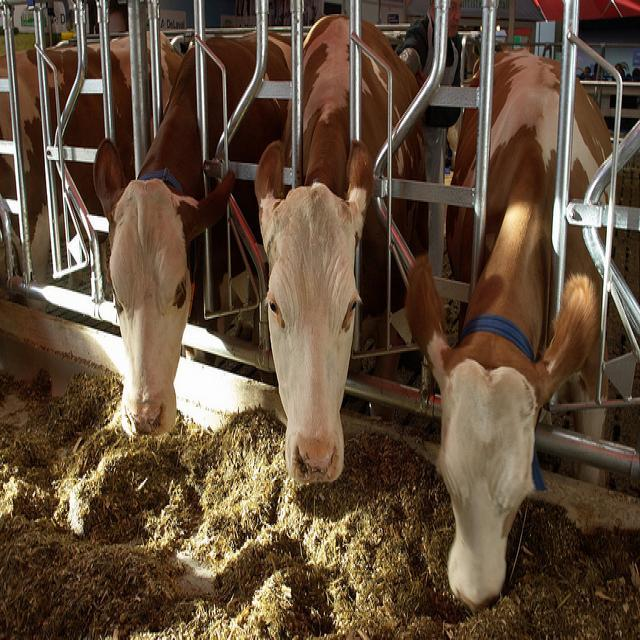cow: (406, 43, 615, 609), (88, 22, 288, 441), (255, 14, 430, 489), (0, 30, 137, 236)
